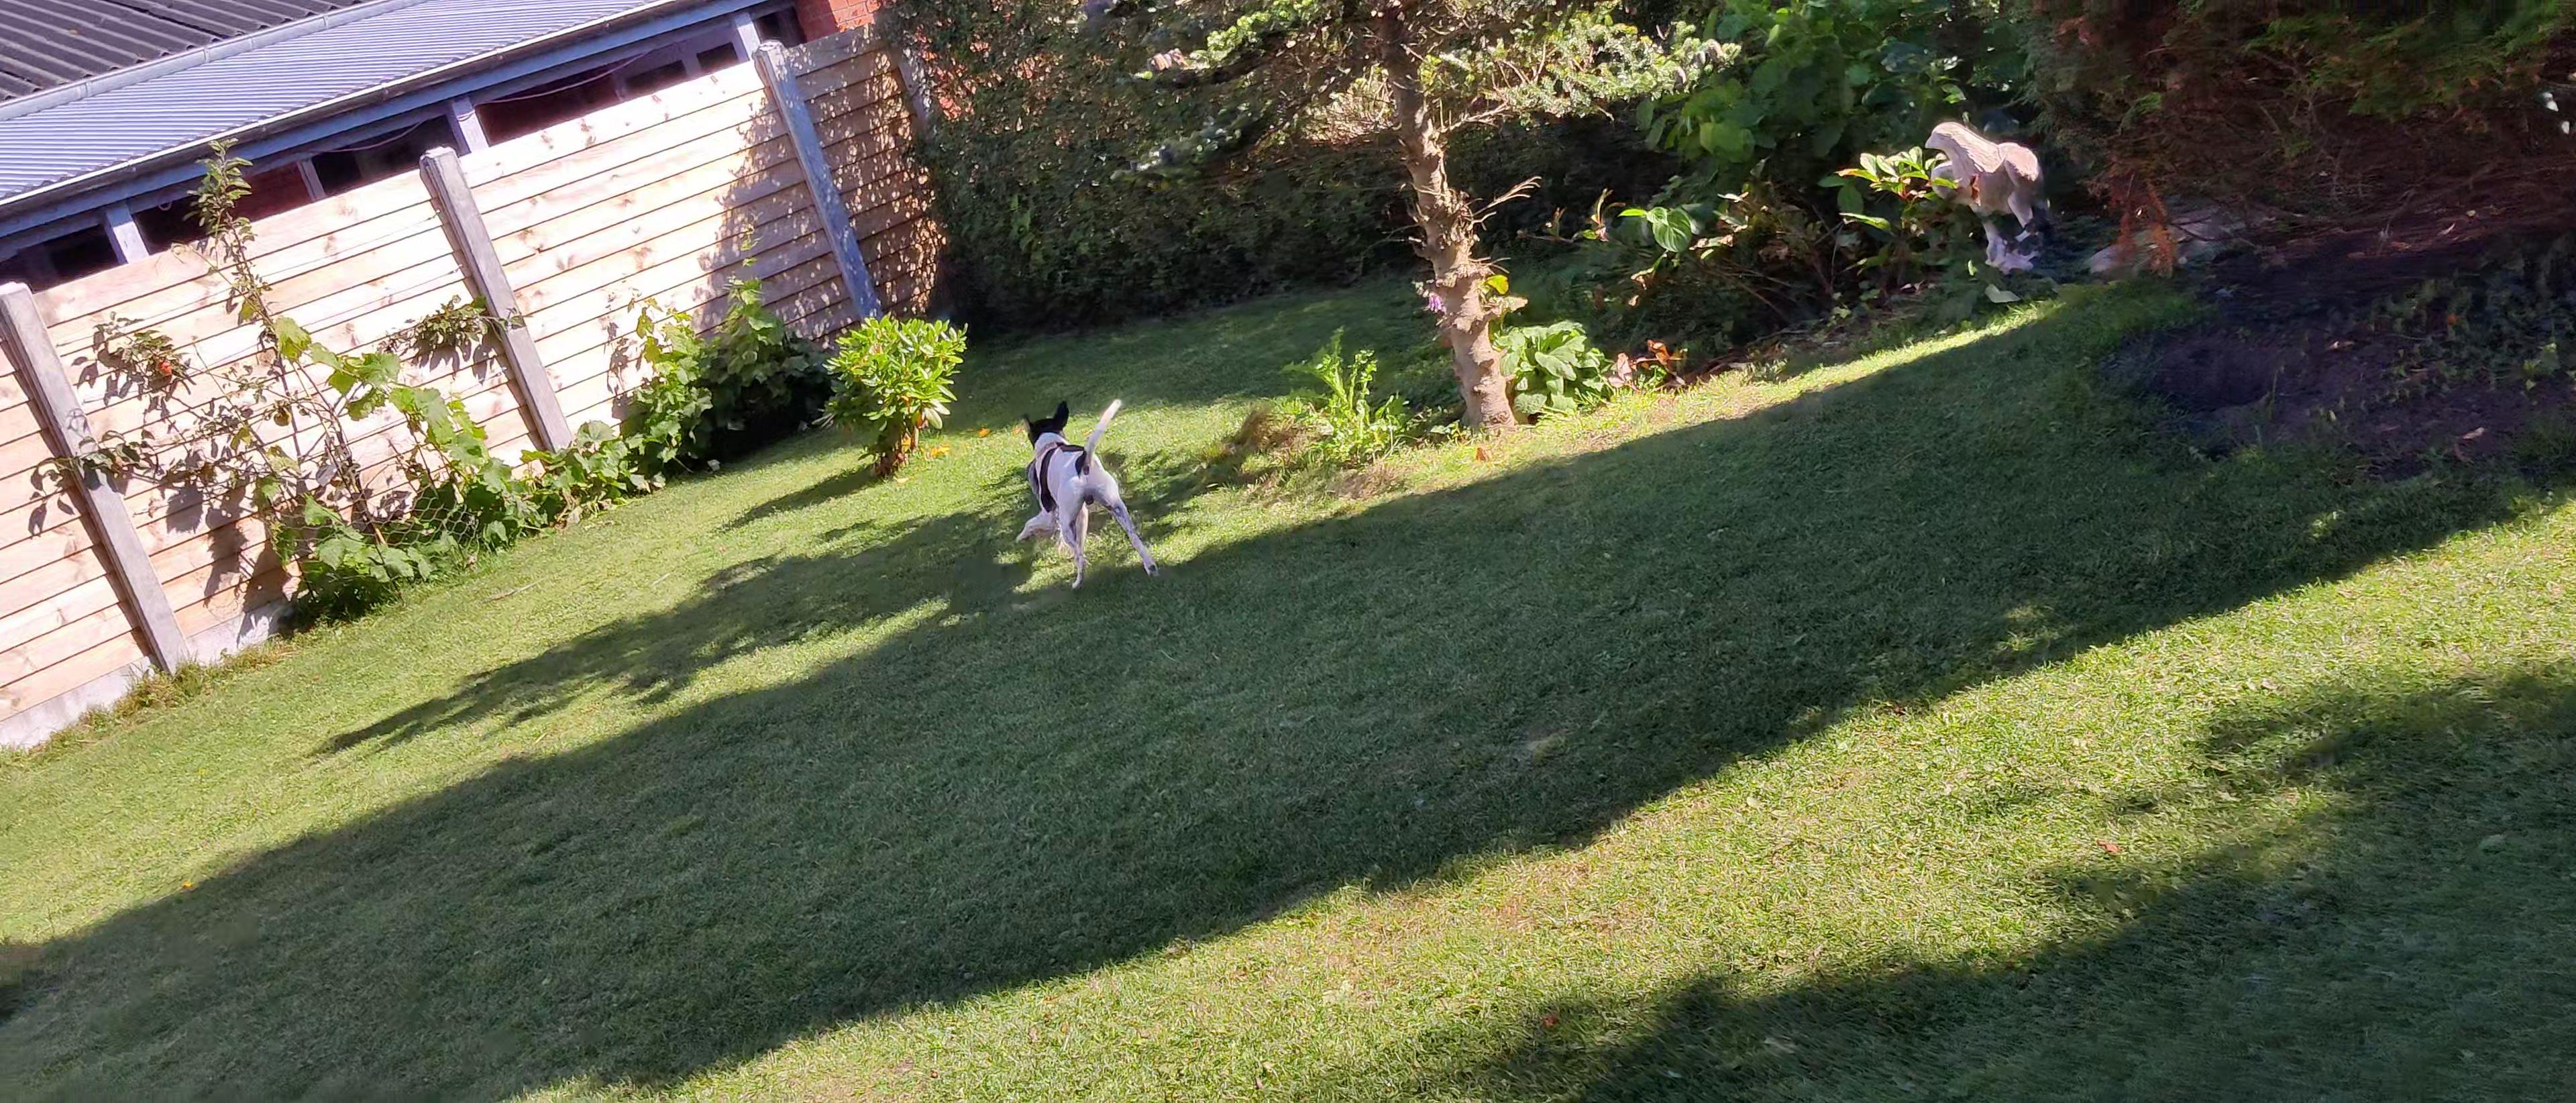Dog: (1020, 388, 1166, 588)
